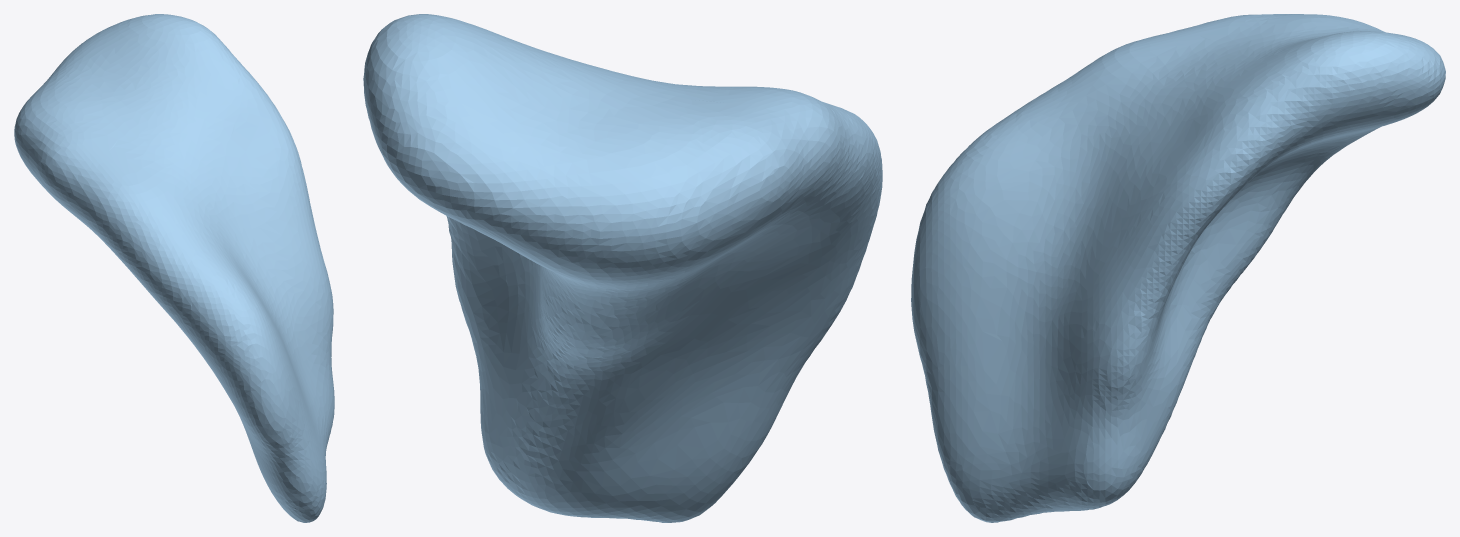
The picture shows the model from 3 angles, left to right: view 1: azimuth 30°, elevation 25°; view 2: azimuth 150°, elevation 25°; view 3: azimuth 270°, elevation 25°; orthographic projection. The views are drawn at different scales.
Visible parts, largest first — view 1: world; view 2: world; view 3: world.
Boxes of the visible parts, box(x1,y1,x2,y2) form: world: box(14, 14, 334, 522); world: box(363, 14, 882, 522); world: box(911, 14, 1445, 522).
Bounding box in the file's own units: 0.4454 × 0.7041 × 0.6999.
